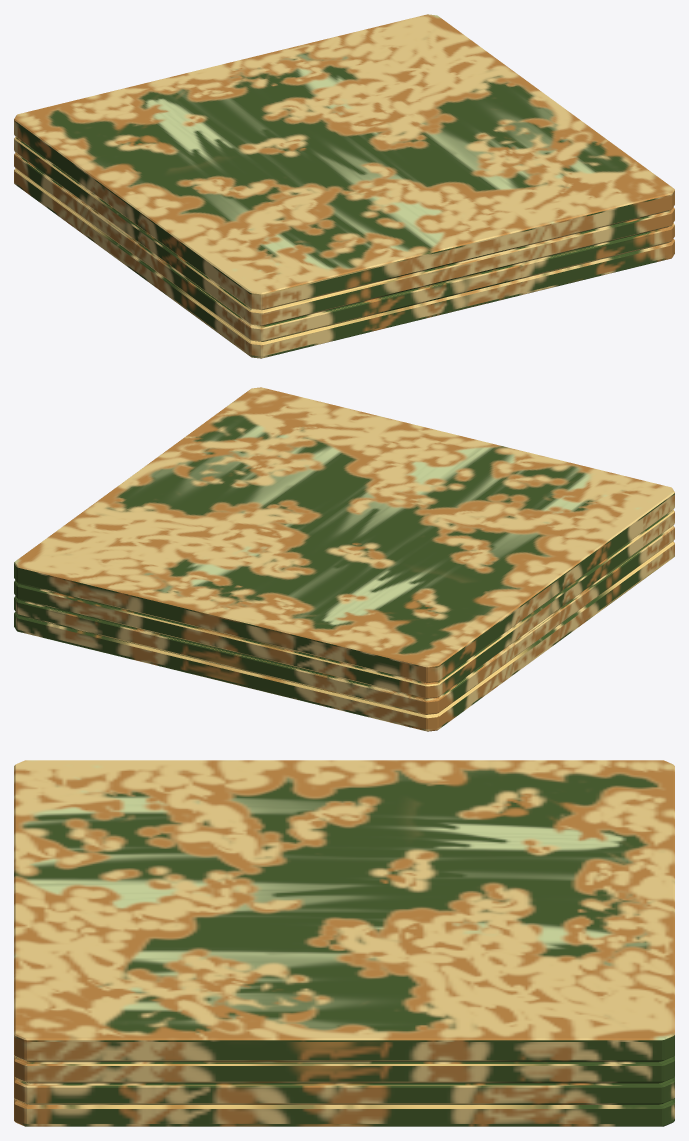
File: Korean_st_Pancake.fbx
3 views of the same model, one above another, from view 1: azimuth 30°, elevation 25°; view 2: azimuth 150°, elevation 25°; view 3: azimuth 270°, elevation 25° (orthographic). The views are drawn at different scales.
Parts seen in each view (by area): view 1: Cube.004; view 2: Cube.004; view 3: Cube.004.
Boxes of the visible parts, x1=… form: Cube.004: x1=14, y1=14, x2=674, y2=358; Cube.004: x1=14, y1=387, x2=674, y2=731; Cube.004: x1=14, y1=760, x2=674, y2=1126.
Size of the model in its own units: 12.01 by 1.77 by 12.01.
